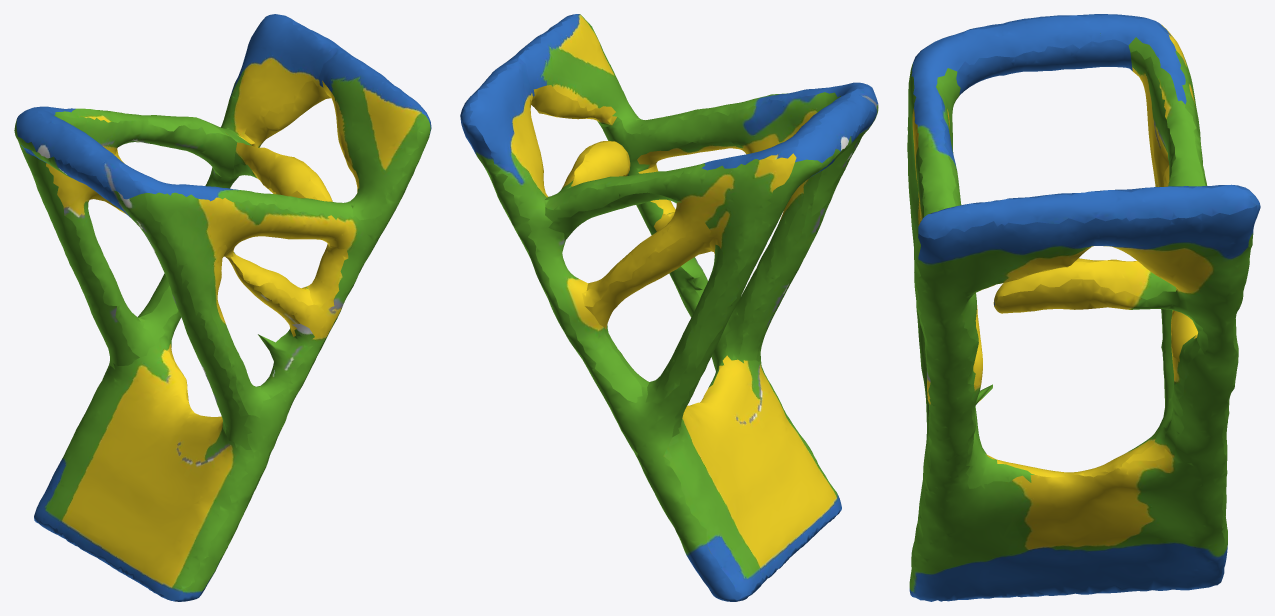
File: swing.glb
3 renders of one model, left to right at view 1: azimuth 30°, elevation 25°; view 2: azimuth 150°, elevation 25°; view 3: azimuth 270°, elevation 25°, orthographic. The views are drawn at different scales.
Parts seen in each view (by area): view 1: geometry_0; view 2: geometry_0; view 3: geometry_0.
Boxes of the visible parts, bbox=[...] form: geometry_0: bbox=[14, 14, 431, 601]; geometry_0: bbox=[460, 14, 878, 601]; geometry_0: bbox=[907, 14, 1260, 601].
Bounding box in the file's own units: 0.6307 × 0.7987 × 0.4733.
1 material, 1 textured.
